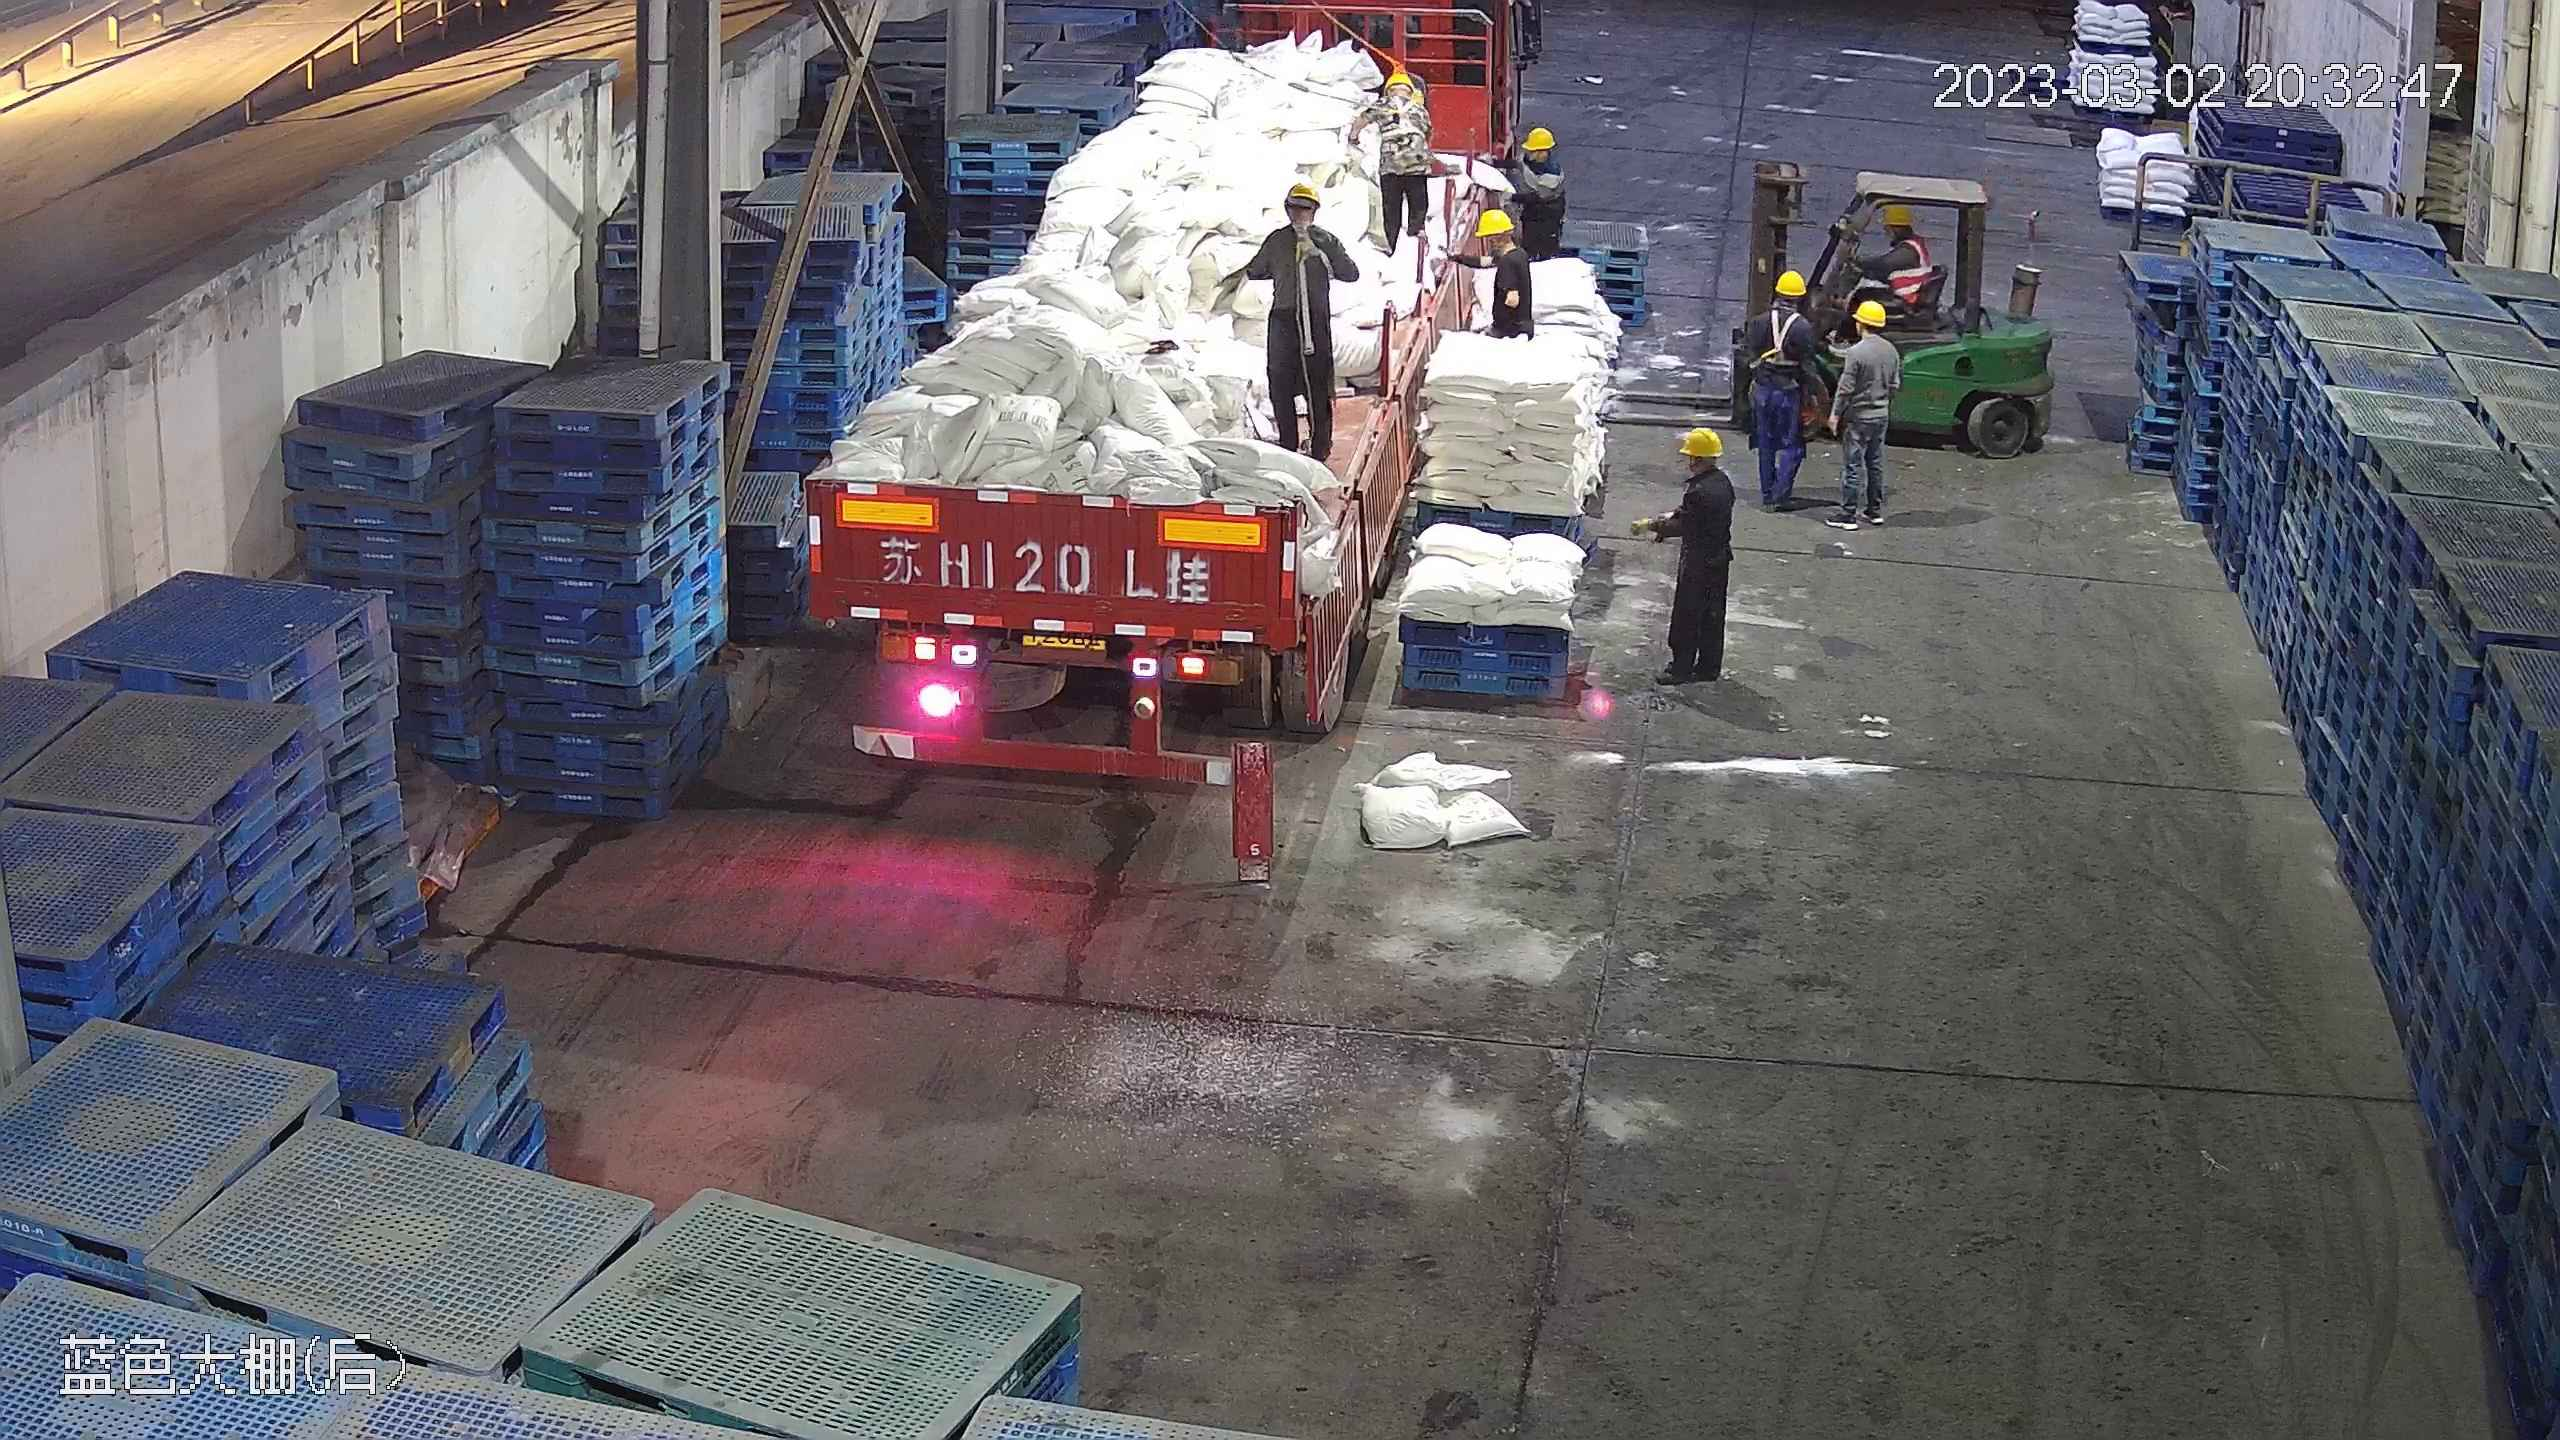belt: (1275, 220, 1330, 277), (1750, 309, 1805, 363), (1379, 91, 1424, 138), (1381, 50, 1413, 79)
head: (1469, 203, 1536, 306), (1263, 175, 1343, 256), (1673, 425, 1737, 513), (1747, 270, 1818, 345), (1367, 66, 1428, 131), (1511, 125, 1564, 191), (1842, 299, 1898, 366), (1873, 202, 1930, 264)
helmet: (1679, 427, 1723, 458), (1475, 205, 1514, 238), (1850, 299, 1886, 327), (1285, 174, 1324, 201), (1522, 125, 1557, 151), (1383, 61, 1414, 91), (1776, 269, 1808, 296), (1880, 201, 1912, 224)
people: (1218, 168, 1355, 460), (1652, 423, 1738, 687), (1732, 268, 1820, 510), (1825, 296, 1898, 529), (1360, 60, 1436, 256), (1851, 190, 1930, 344), (1452, 205, 1541, 341), (1503, 125, 1568, 272)
truck: (800, 9, 1445, 785)
